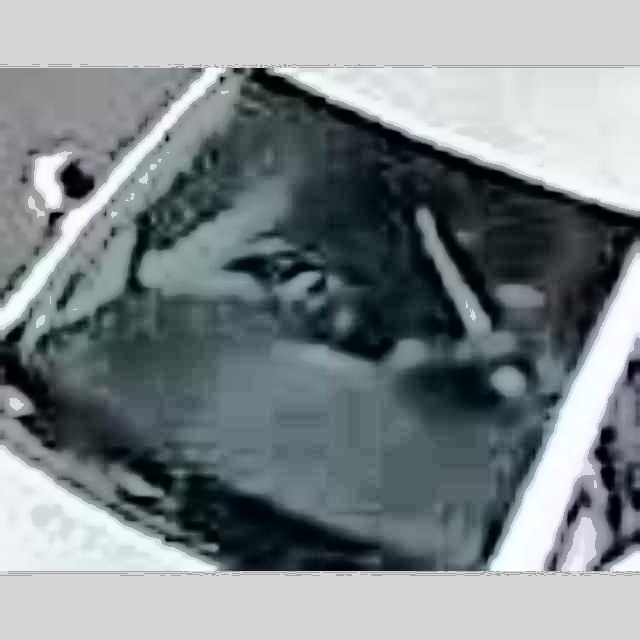pakai: (300, 136, 524, 368)
